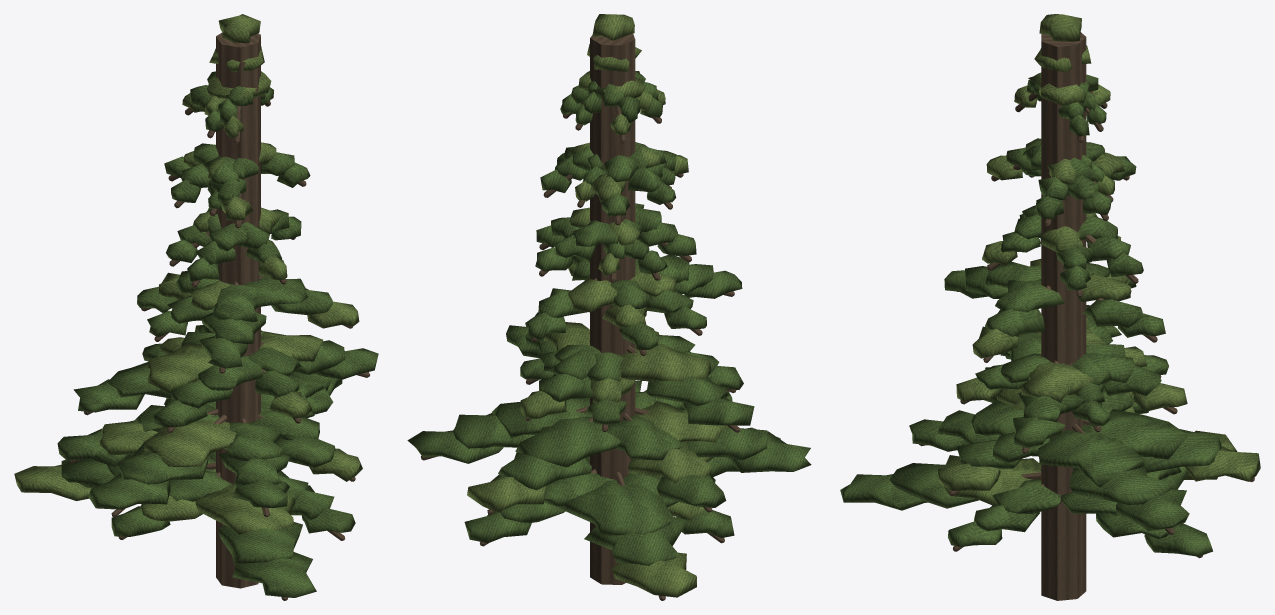
Rendered from pine_c.glb.
3 views of the same model, side by side, from view 1: azimuth 30°, elevation 25°; view 2: azimuth 150°, elevation 25°; view 3: azimuth 270°, elevation 25° (orthographic). The views are drawn at different scales.
Visible parts, largest first — view 1: pine_c__Pine_needles, pine_c__Sunlit_pine_tips, pine_c__Dark_endgrain; view 2: pine_c__Pine_needles, pine_c__Sunlit_pine_tips, pine_c__Dark_endgrain; view 3: pine_c__Pine_needles, pine_c__Sunlit_pine_tips, pine_c__Dark_endgrain.
Part boxes in pixels (bbox=[...]): pine_c__Pine_needles: bbox=[57, 71, 378, 597]; pine_c__Sunlit_pine_tips: bbox=[14, 14, 362, 534]; pine_c__Dark_endgrain: bbox=[68, 32, 369, 600]; pine_c__Pine_needles: bbox=[407, 71, 811, 565]; pine_c__Sunlit_pine_tips: bbox=[467, 14, 729, 597]; pine_c__Dark_endgrain: bbox=[421, 33, 740, 600]; pine_c__Pine_needles: bbox=[840, 72, 1221, 556]; pine_c__Sunlit_pine_tips: bbox=[938, 14, 1260, 505]; pine_c__Dark_endgrain: bbox=[919, 32, 1254, 600].
Bounding box in the file's own units: 1.55 × 2.59 × 1.71.
Materials: 3 (3 with a texture image).
